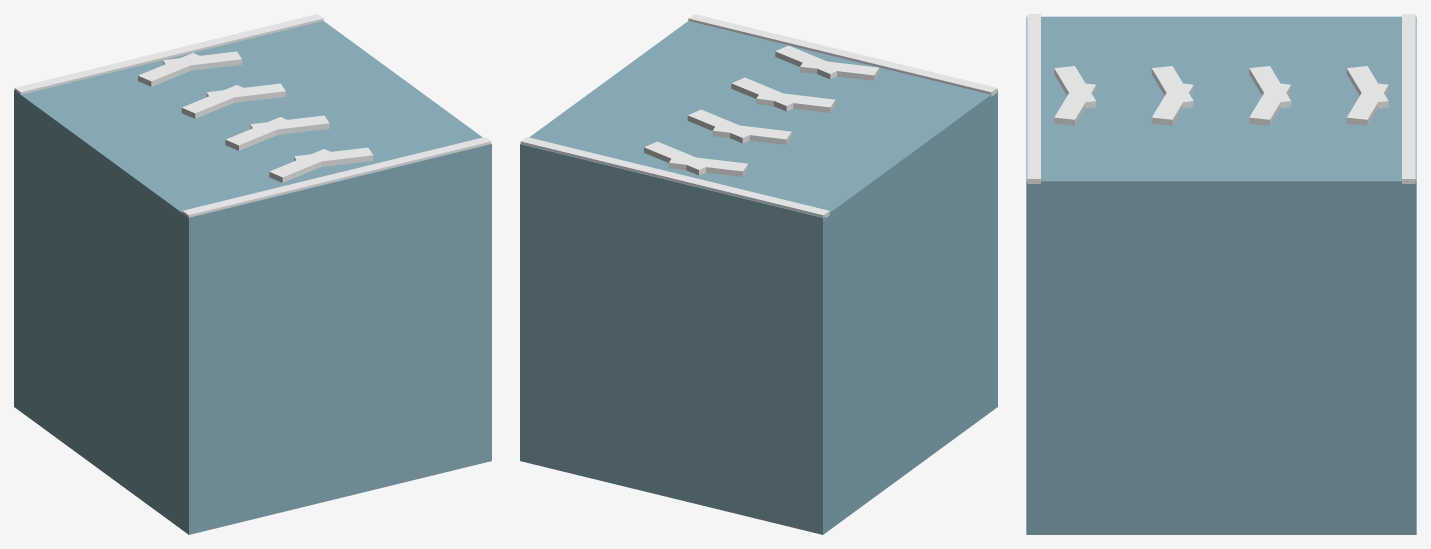
The model's file is ThinConveyor_Full.glb.
The picture shows the model from 3 angles, left to right: view 1: azimuth 30°, elevation 25°; view 2: azimuth 150°, elevation 25°; view 3: azimuth 270°, elevation 25°; orthographic projection. The views are drawn at different scales.
Parts seen in each view (by area): view 1: ThinConveyor_Full_body, rail_-0.005, rail_0.005, chev_0_1.005, chev_2_1.005, chev_1_1.005, chev_3_1.005, chev_1_-1.005, chev_0_-1.005, chev_2_-1.005, chev_3_-1.005; view 2: ThinConveyor_Full_body, rail_-0.005, rail_0.005, chev_2_1.005, chev_3_1.005, chev_1_-1.005, chev_0_-1.005, chev_0_1.005, chev_3_-1.005, chev_1_1.005, chev_2_-1.005; view 3: ThinConveyor_Full_body, rail_0.005, rail_-0.005, chev_3_-1.005, chev_2_-1.005, chev_1_-1.005, chev_0_-1.005, chev_3_1.005, chev_1_1.005, chev_2_1.005, chev_0_1.005.
Boxes of the visible parts, x1,y1,x2,y2 form: ThinConveyor_Full_body: (14,21,491,534); rail_-0.005: (182,137,491,219); rail_0.005: (14,14,323,94); chev_0_1.005: (269,149,336,182); chev_2_1.005: (181,85,249,118); chev_1_1.005: (225,117,293,150); chev_3_1.005: (138,53,205,86); chev_1_-1.005: (250,115,329,134); chev_0_-1.005: (294,147,373,166); chev_2_-1.005: (206,83,285,102); chev_3_-1.005: (163,51,242,70); ThinConveyor_Full_body: (520,21,997,534); rail_-0.005: (688,14,997,96); rail_0.005: (520,137,829,219); chev_2_1.005: (712,123,791,144); chev_3_1.005: (669,155,748,176); chev_1_-1.005: (731,77,799,111); chev_0_-1.005: (775,45,843,79); chev_0_1.005: (800,59,879,80); chev_3_-1.005: (644,141,711,175); chev_1_1.005: (756,92,835,112); chev_2_-1.005: (687,109,749,143); ThinConveyor_Full_body: (1026,16,1416,534); rail_0.005: (1402,14,1415,183); rail_-0.005: (1027,14,1040,183); chev_3_-1.005: (1346,83,1388,125); chev_2_-1.005: (1249,82,1291,125); chev_1_-1.005: (1151,82,1193,125); chev_0_-1.005: (1054,82,1096,125); chev_3_1.005: (1346,66,1388,108); chev_1_1.005: (1151,66,1193,108); chev_2_1.005: (1249,66,1291,108); chev_0_1.005: (1054,66,1096,108).
Bounding box in the file's own units: 1 × 1.02 × 1.
